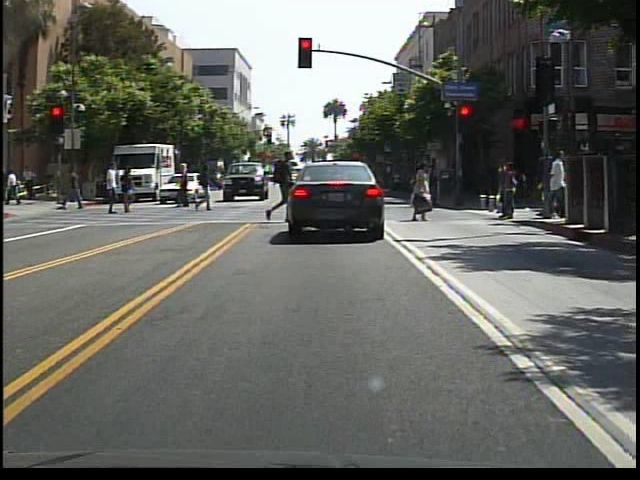person: (403, 158, 440, 228), (264, 147, 297, 225), (544, 149, 567, 223), (103, 161, 127, 218), (194, 163, 220, 215), (62, 163, 87, 214), (176, 163, 196, 211), (123, 167, 139, 214)
